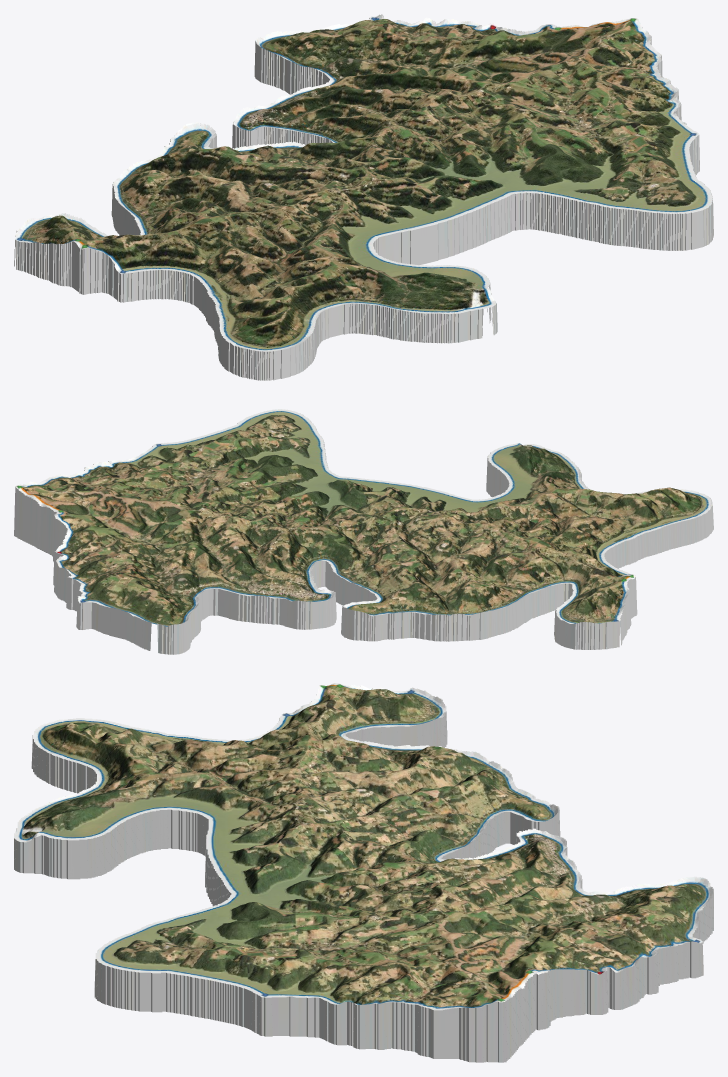
The picture shows the model from 3 angles, top to bottom: view 1: azimuth 30°, elevation 25°; view 2: azimuth 150°, elevation 25°; view 3: azimuth 270°, elevation 25°; orthographic projection. The views are drawn at different scales.
Bounding box in the file's own units: 1 × 0.0818 × 0.8614.
1 material, 1 textured.
